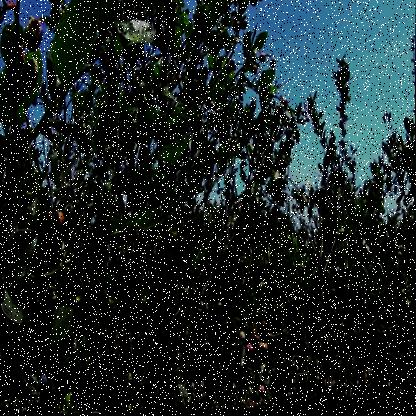intermediate: (53, 204, 70, 237), (258, 385, 269, 402), (1, 173, 5, 214), (246, 344, 255, 361)
mature: (97, 106, 116, 142), (72, 236, 92, 269), (95, 238, 113, 274), (39, 374, 53, 396)
young: (23, 11, 45, 53), (17, 58, 40, 90), (1, 1, 5, 46), (238, 331, 249, 345)
